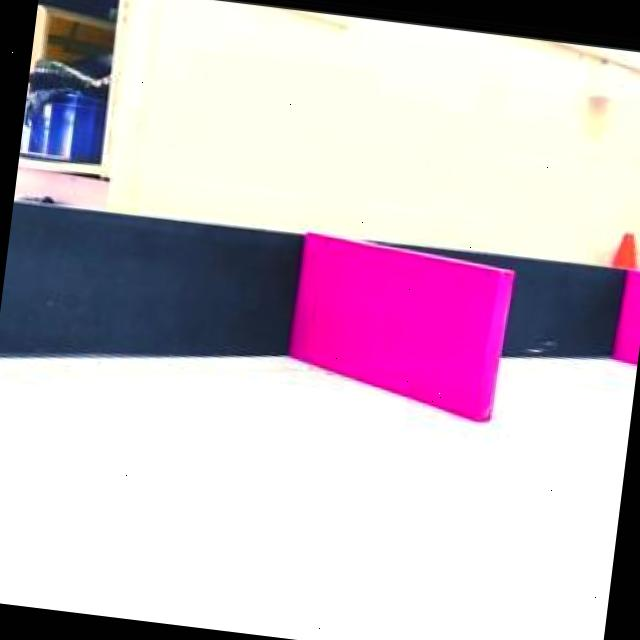xparking: (287, 244, 510, 405), (613, 270, 640, 360)
